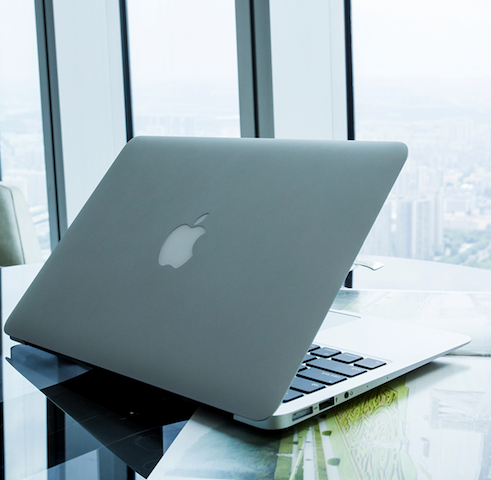computer: (6, 123, 486, 436)
